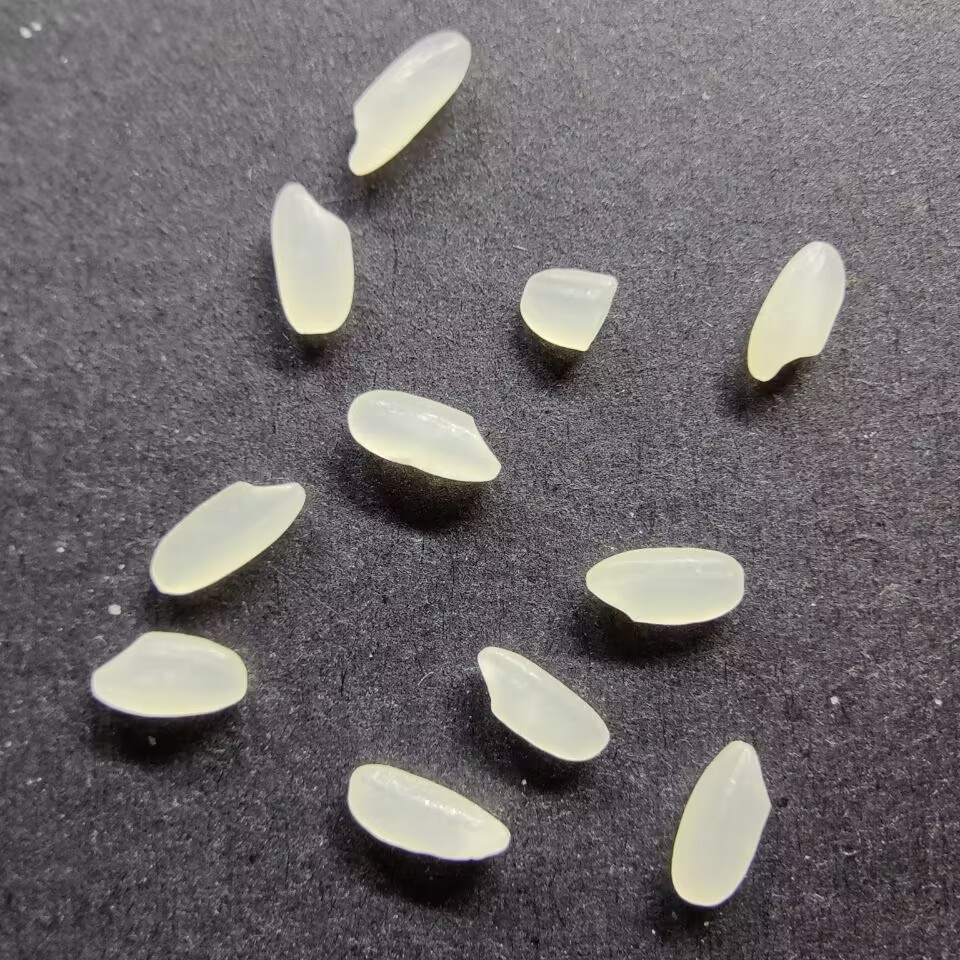broken: (520, 268, 620, 351)
rice: (147, 476, 308, 597), (345, 29, 473, 176), (669, 739, 772, 907), (345, 762, 511, 861), (476, 646, 610, 761), (345, 388, 502, 484), (88, 629, 249, 720), (746, 238, 846, 383), (267, 181, 355, 335), (582, 545, 746, 626)
